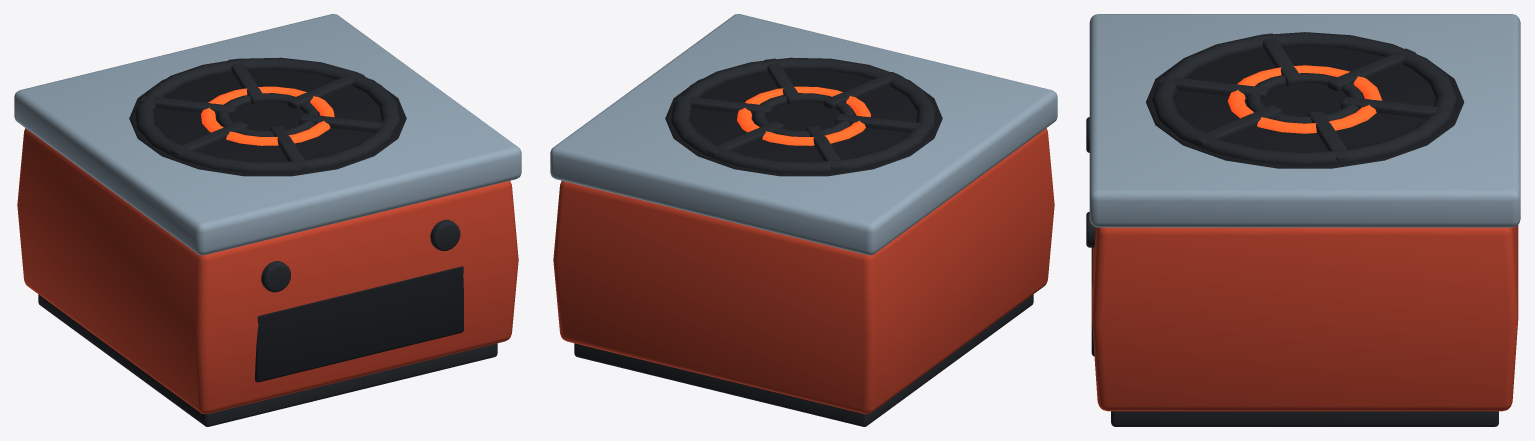
Rendered from kitchenStove.glb.
3 renders of one model, left to right at view 1: azimuth 30°, elevation 25°; view 2: azimuth 150°, elevation 25°; view 3: azimuth 270°, elevation 25°, orthographic. The views are drawn at different scales.
Parts seen in each view (by area): view 1: StovePlinth; view 2: StovePlinth; view 3: StovePlinth.
Part boxes in pixels (<box>): StovePlinth: <box>14,14,521,426</box>; StovePlinth: <box>550,14,1057,426</box>; StovePlinth: <box>1086,14,1520,426</box>.
Bounding box in the file's own units: 1 × 0.6469 × 1.01.
